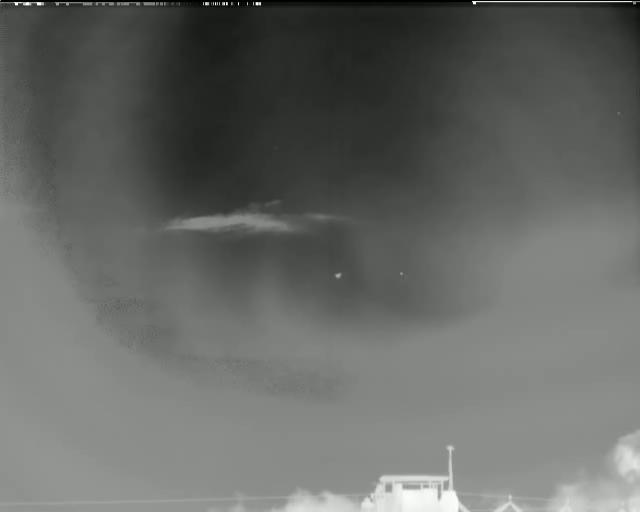uav: (334, 272, 344, 281)
